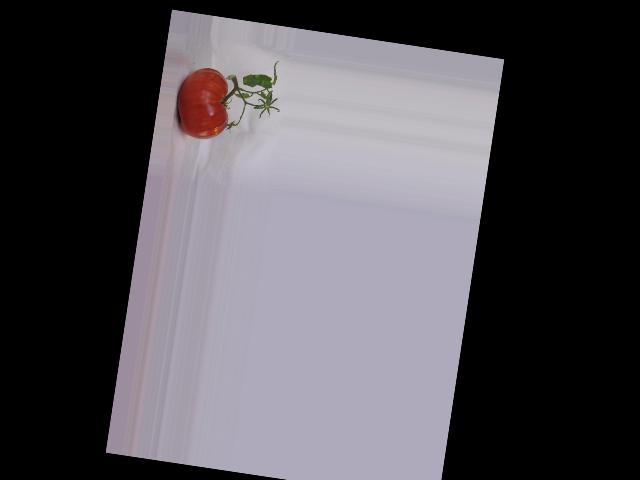tomato: (171, 64, 234, 142)
